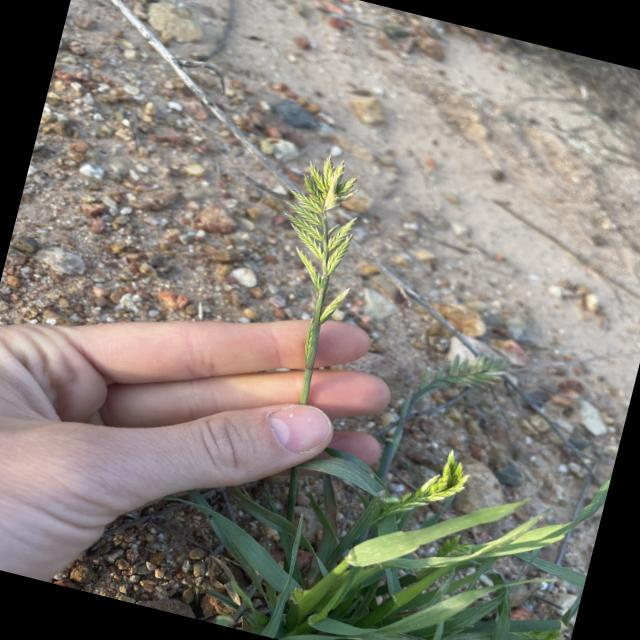Lolium: (232, 144, 386, 412), (394, 338, 514, 456)
